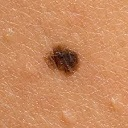Melanoma: (45, 46, 78, 74)
